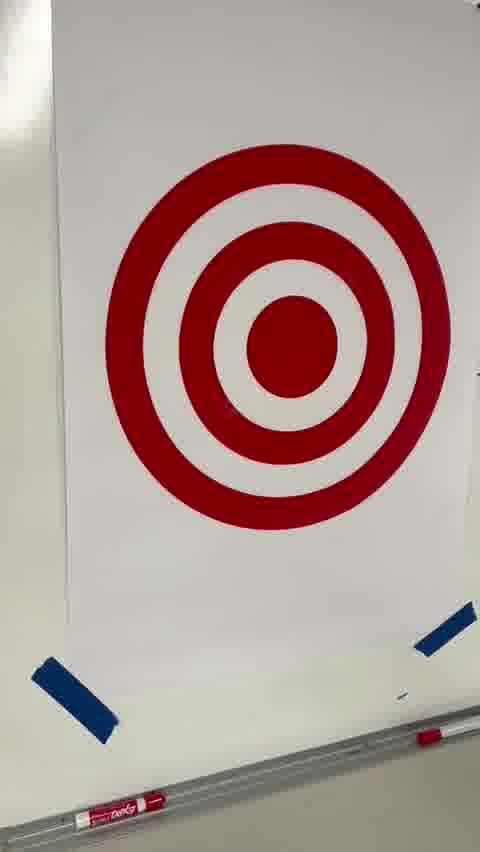target_red: (105, 143, 449, 531)
